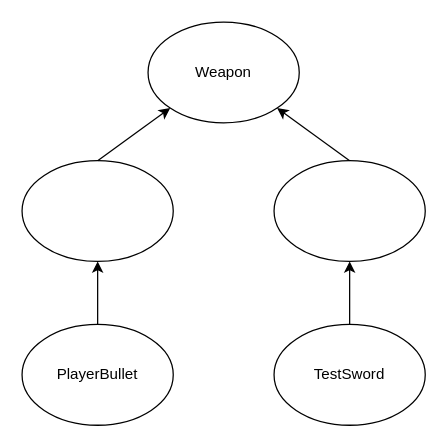
The diagram is 447 pixels wide and 447 high, and some of its shapes have lost their labels. The shapes that lost their labels are listed below. From the top down, each one's centre as x and y in pixels, then its label:
At point (97, 210): "Ranged".
At point (349, 210): "Melee".
